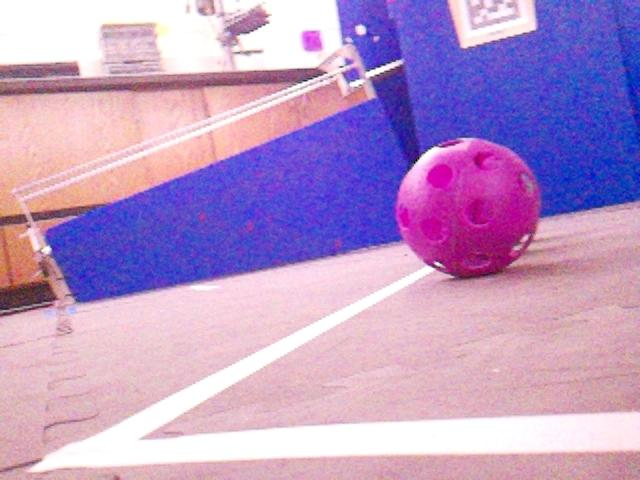Purple: (392, 137, 542, 278)
